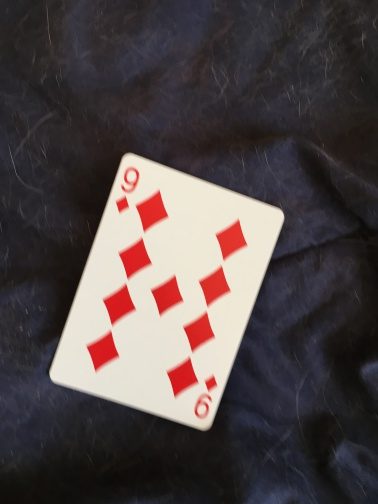nine: (47, 149, 286, 434)
